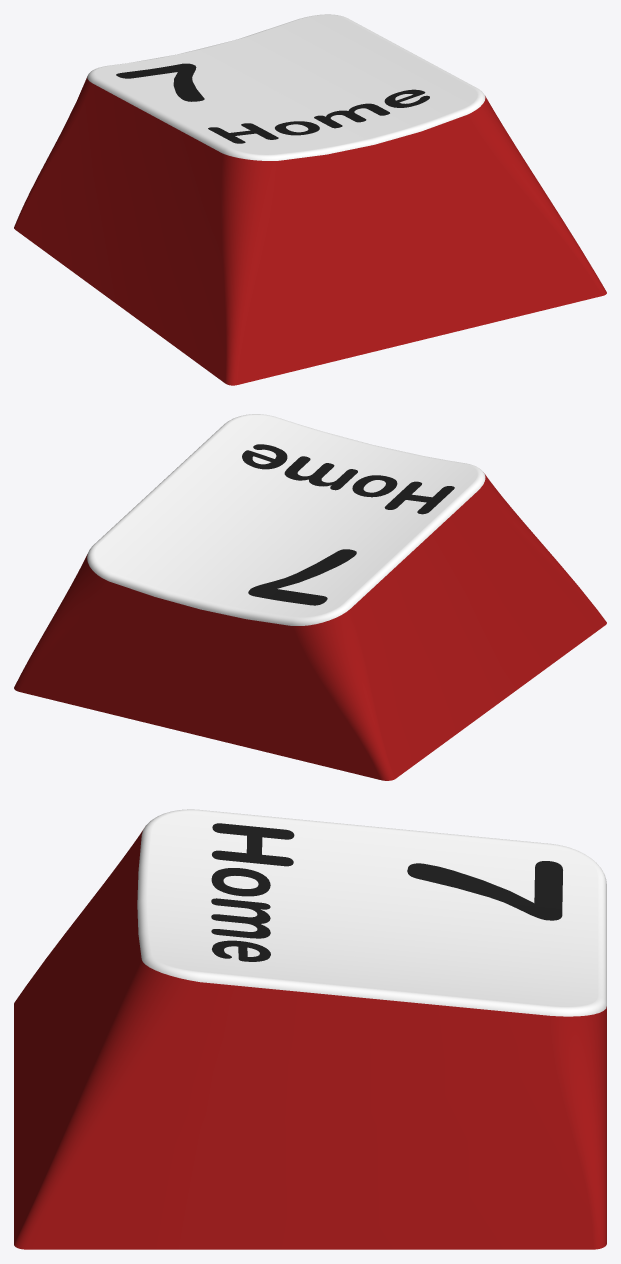
The model's file is NUM 7 Home.fbx.
3 renders of one model, top to bottom at view 1: azimuth 30°, elevation 25°; view 2: azimuth 150°, elevation 25°; view 3: azimuth 270°, elevation 25°, orthographic. The views are drawn at different scales.
Parts seen in each view (by area): view 1: Body1; view 2: Body1; view 3: Body1.
Part boxes in pixels (box(x1,y1,x2,y2)): Body1: box(14, 14, 606, 385); Body1: box(14, 414, 606, 780); Body1: box(14, 809, 606, 1249).
Size of the model in its own units: 18 by 7.85 by 18.
